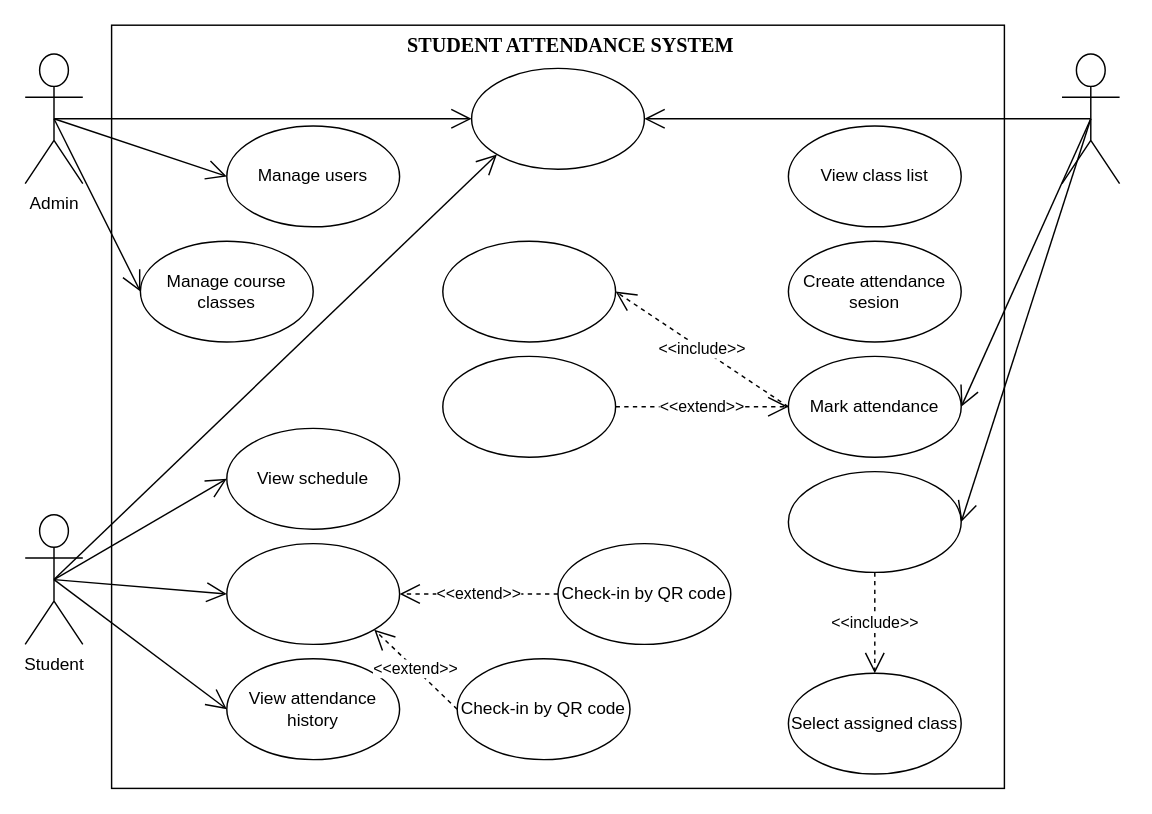
Some shapes in this 1152 by 814 pixel diagram are drawn without their labels. Here are the shapes that lost their labels. From the top down, the box of each, then its label:
(470, 67, 644, 169): Login
(1061, 53, 1120, 184): Professor
(441, 240, 616, 342): View student list
(441, 355, 616, 457): Update attendance
(787, 470, 961, 572): View attendance statistics
(225, 542, 400, 644): Self check-in attendance
